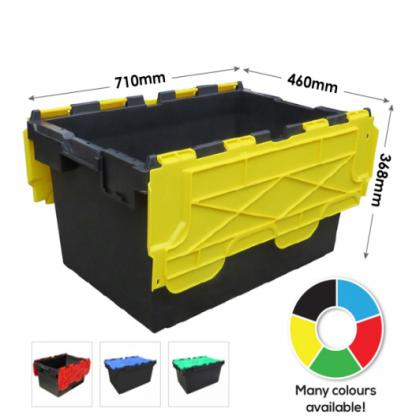plastic_box: (13, 32, 386, 332)
